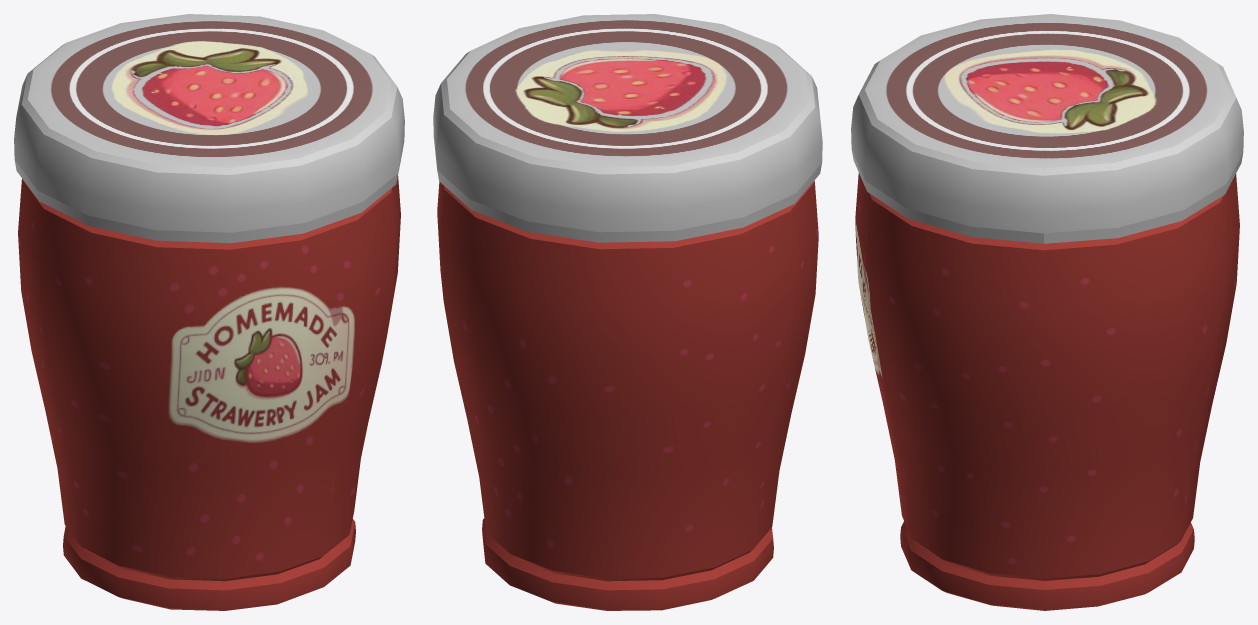
Rendered from JamJar-1.fbx.
3 renders of one model, left to right at view 1: azimuth 30°, elevation 25°; view 2: azimuth 150°, elevation 25°; view 3: azimuth 270°, elevation 25°, orthographic.
Visible parts, largest first — view 1: JamJar, JamJarLid; view 2: JamJar, JamJarLid; view 3: JamJar, JamJarLid.
Part boxes in pixels (<box>): JamJar: <box>18,176,400,610</box>; JamJarLid: <box>14,14,404,243</box>; JamJar: <box>437,180,818,610</box>; JamJarLid: <box>433,14,822,242</box>; JamJar: <box>855,173,1239,610</box>; JamJarLid: <box>851,14,1243,243</box>.
Size of the model in its own units: 276 by 359 by 276.
2 materials, 2 textured.
